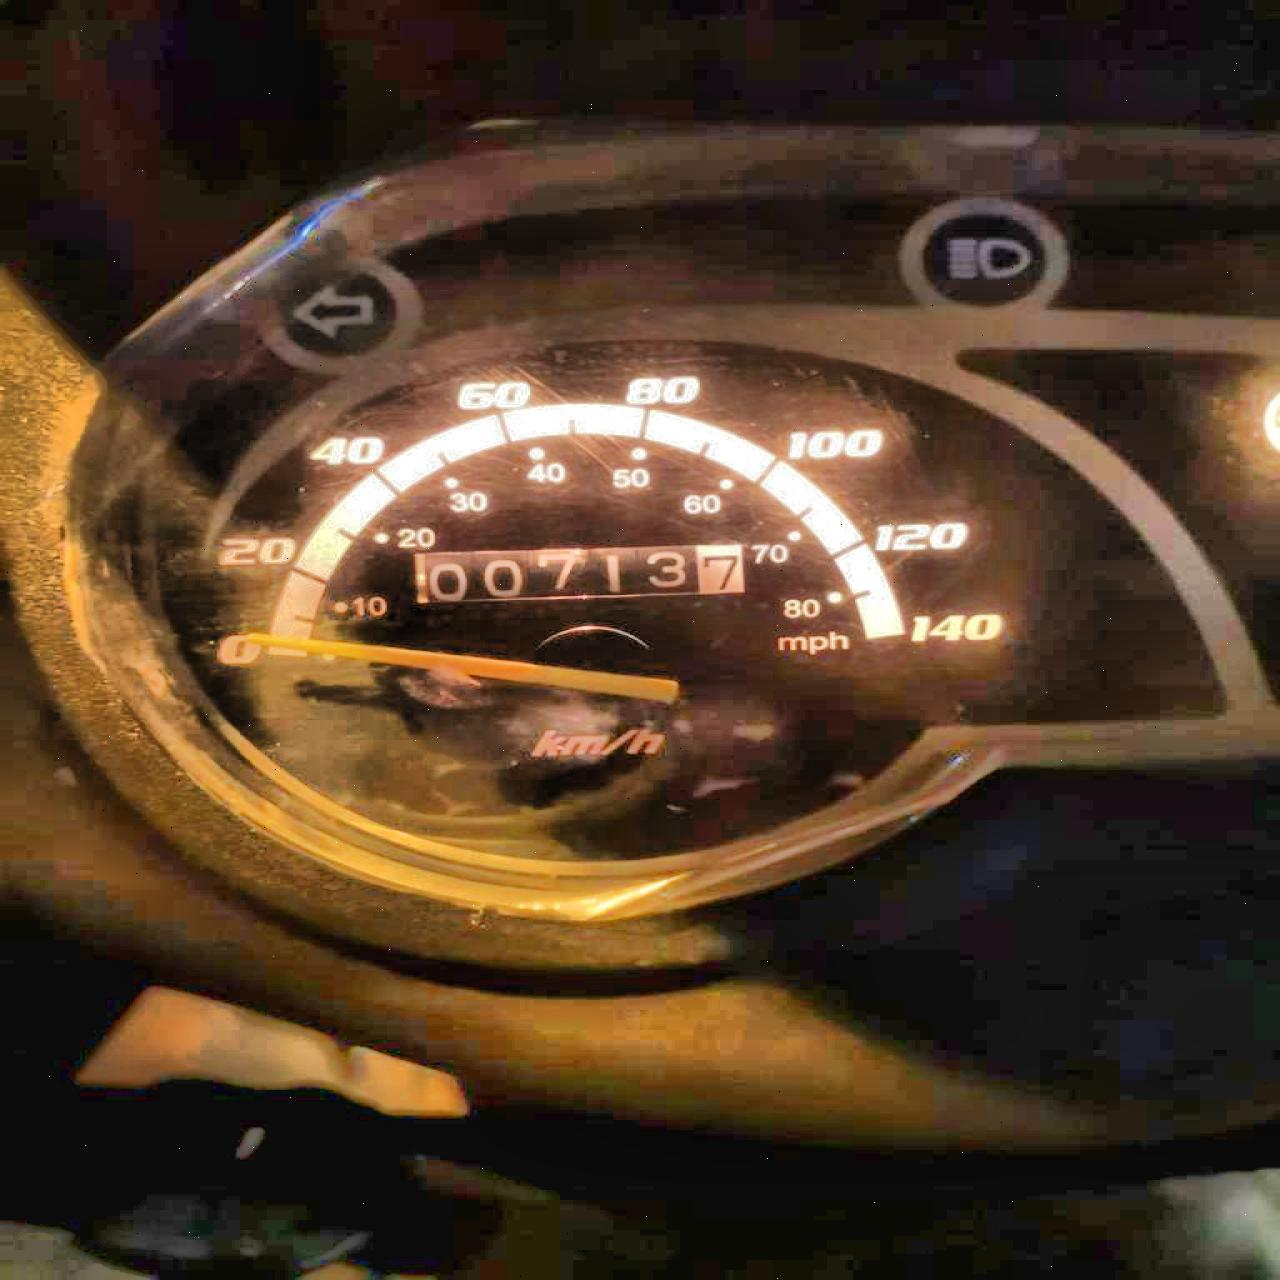0: (428, 563, 467, 601), (482, 559, 522, 597)
1: (604, 553, 619, 591)
3: (645, 550, 685, 586)
7: (537, 552, 576, 588), (700, 554, 738, 590)
odometer: (410, 542, 747, 605)
